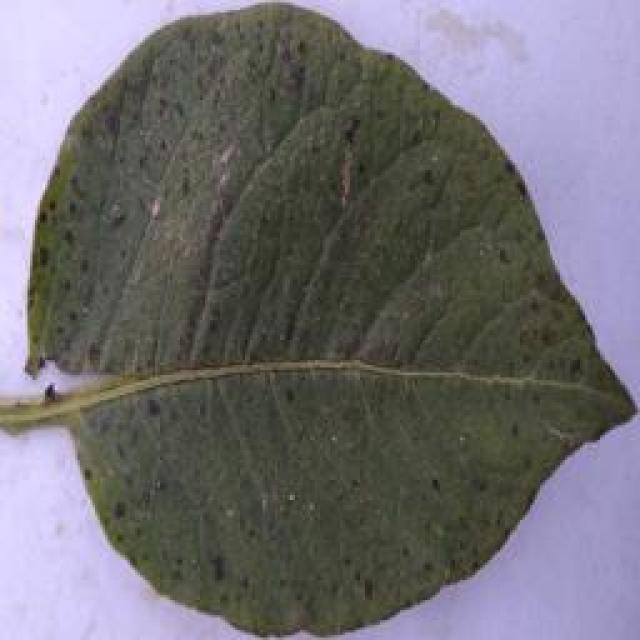Potato_Early_Blight: (31, 18, 640, 640)
